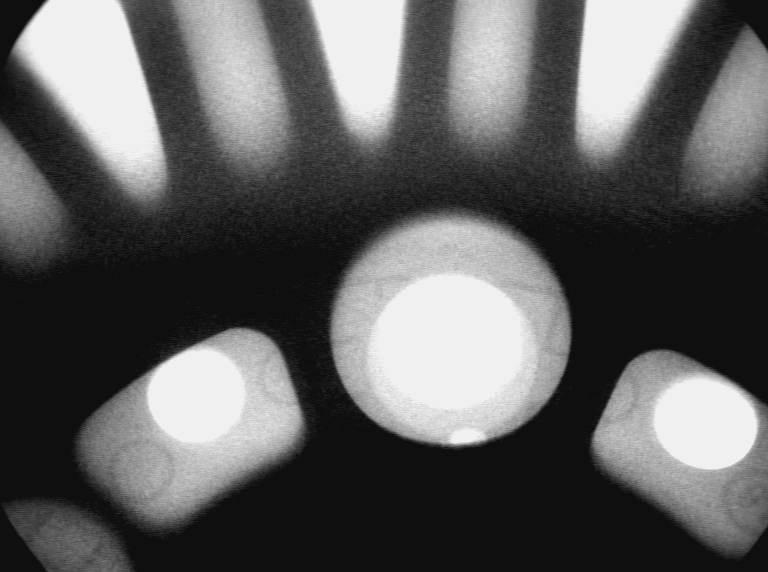defect: (443, 424, 489, 452)
